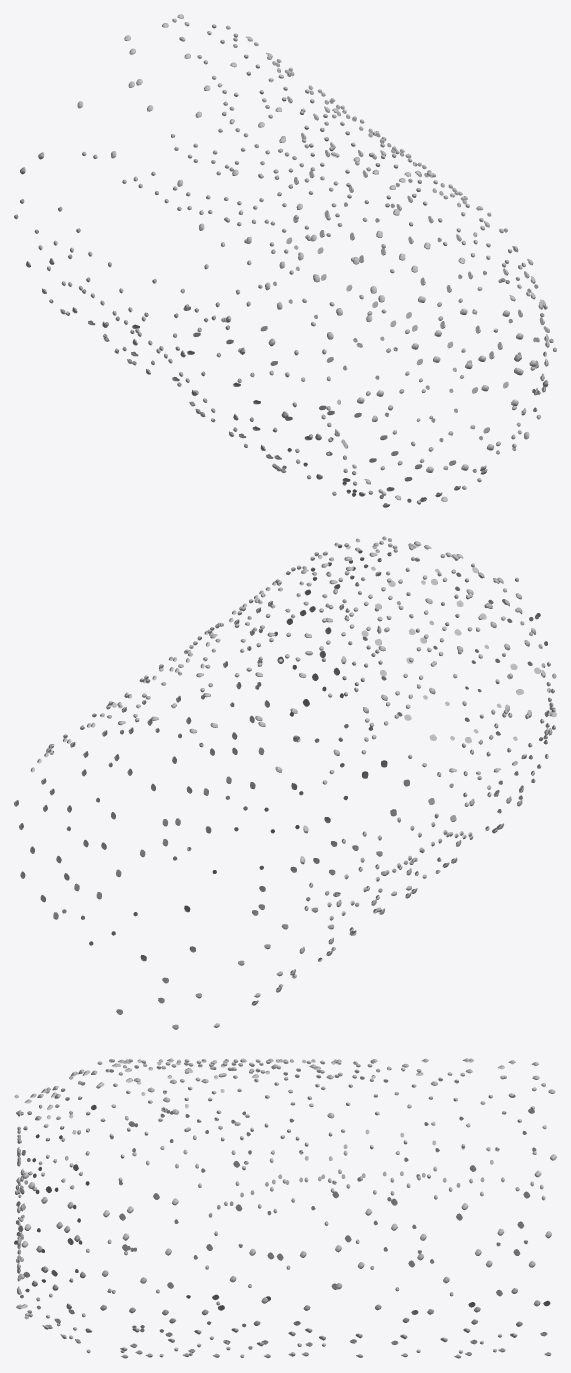
The picture shows the model from 3 angles, top to bottom: view 1: azimuth 30°, elevation 25°; view 2: azimuth 150°, elevation 25°; view 3: azimuth 270°, elevation 25°; orthographic projection. The views are drawn at different scales.
Bounding box in the file's own units: 0.5187 × 0.5196 × 0.9391.
1 material, 1 textured.
